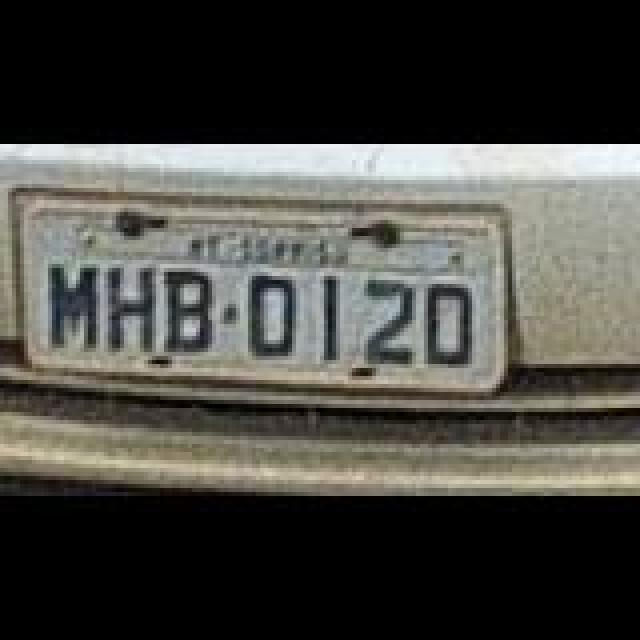1: (320, 276, 344, 364)
2: (366, 282, 426, 366)
B: (164, 268, 220, 356)
D: (424, 284, 480, 372), (250, 276, 302, 364)
H: (106, 268, 166, 356)
M: (46, 264, 106, 352)
